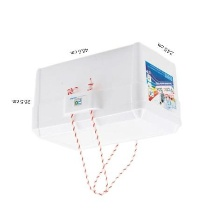foam_box: (27, 38, 187, 203)
